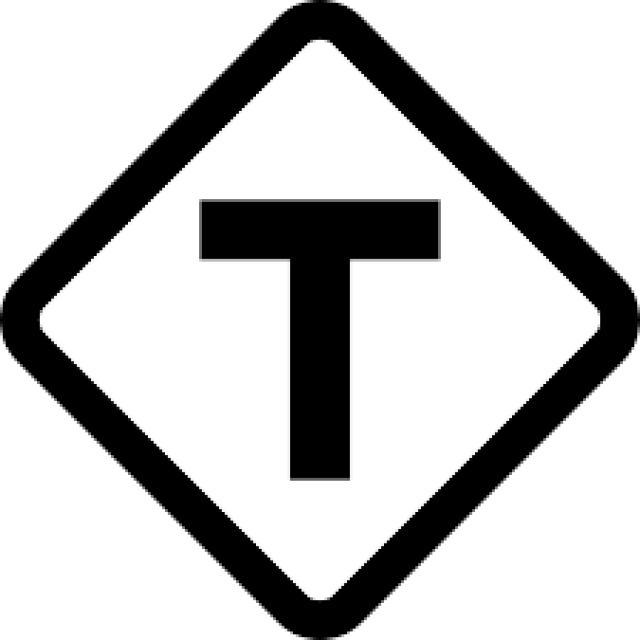t intersection: (39, 42, 616, 600)
